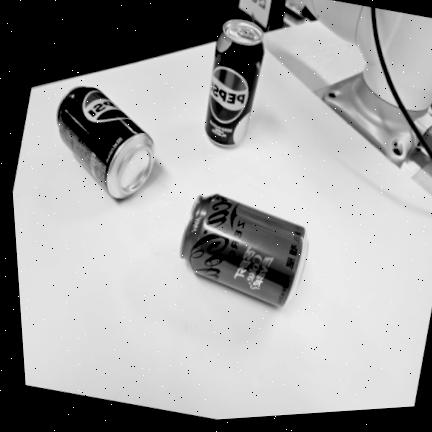can_coke_zero: (179, 194, 308, 307)
can_pepsi: (56, 86, 154, 198)
can_pepsi_zero: (204, 19, 264, 146)
